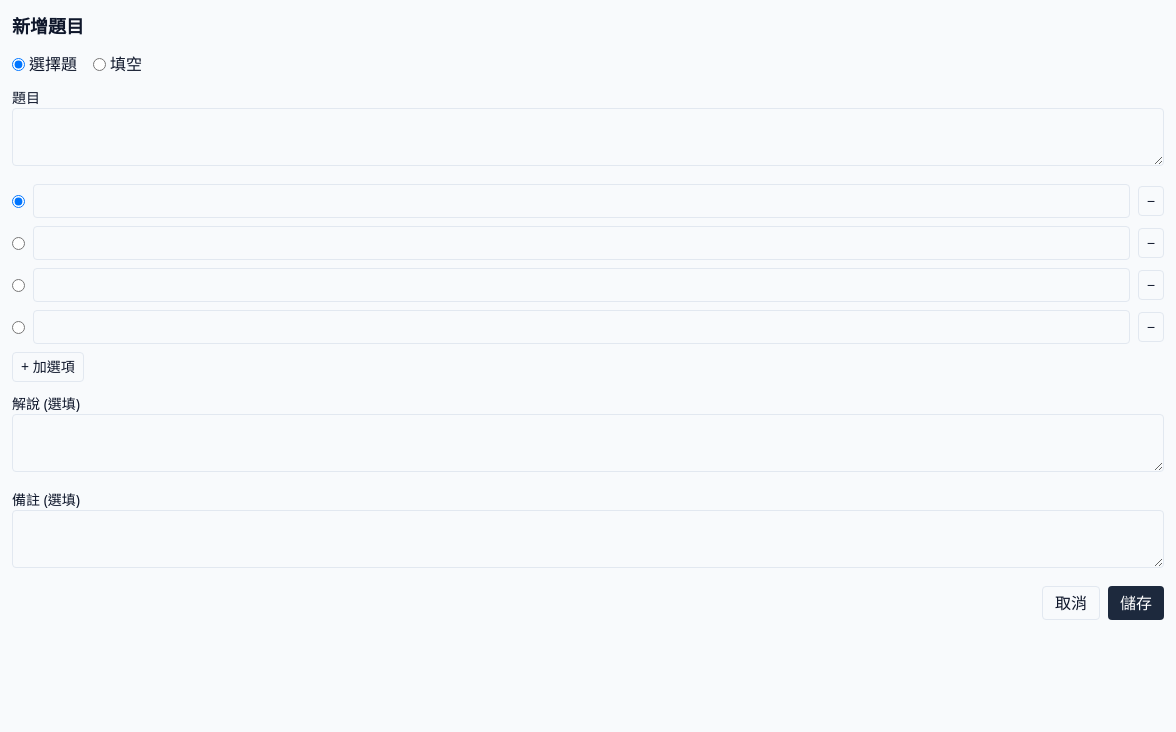
Test: QuestionEditor (create) › rejects submit when prompt is empty (MC)
The width and height of the screenshot is (1176, 732).
Click the button "儲存" at (1136, 603), box [1108,586,1164,620]
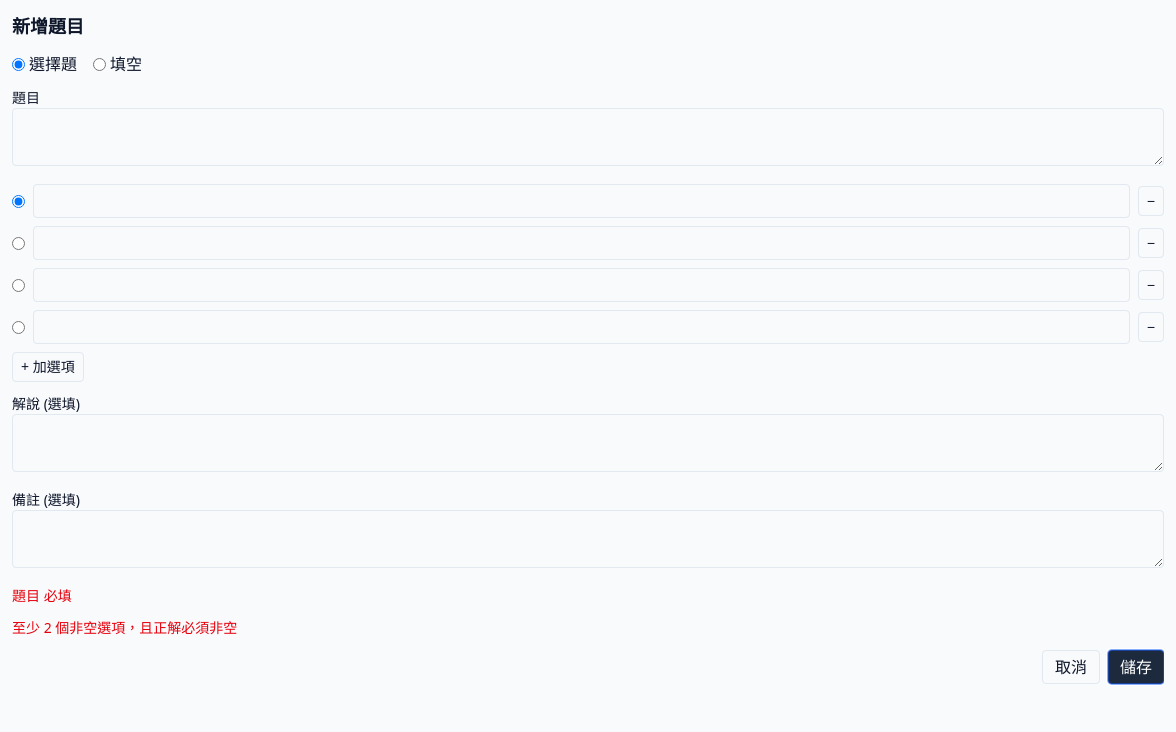
Result: the text "題目 必填" is shown at [12,586,72,605]
